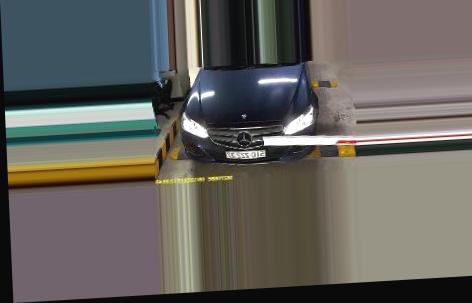License_Plate: (224, 146, 265, 162)
